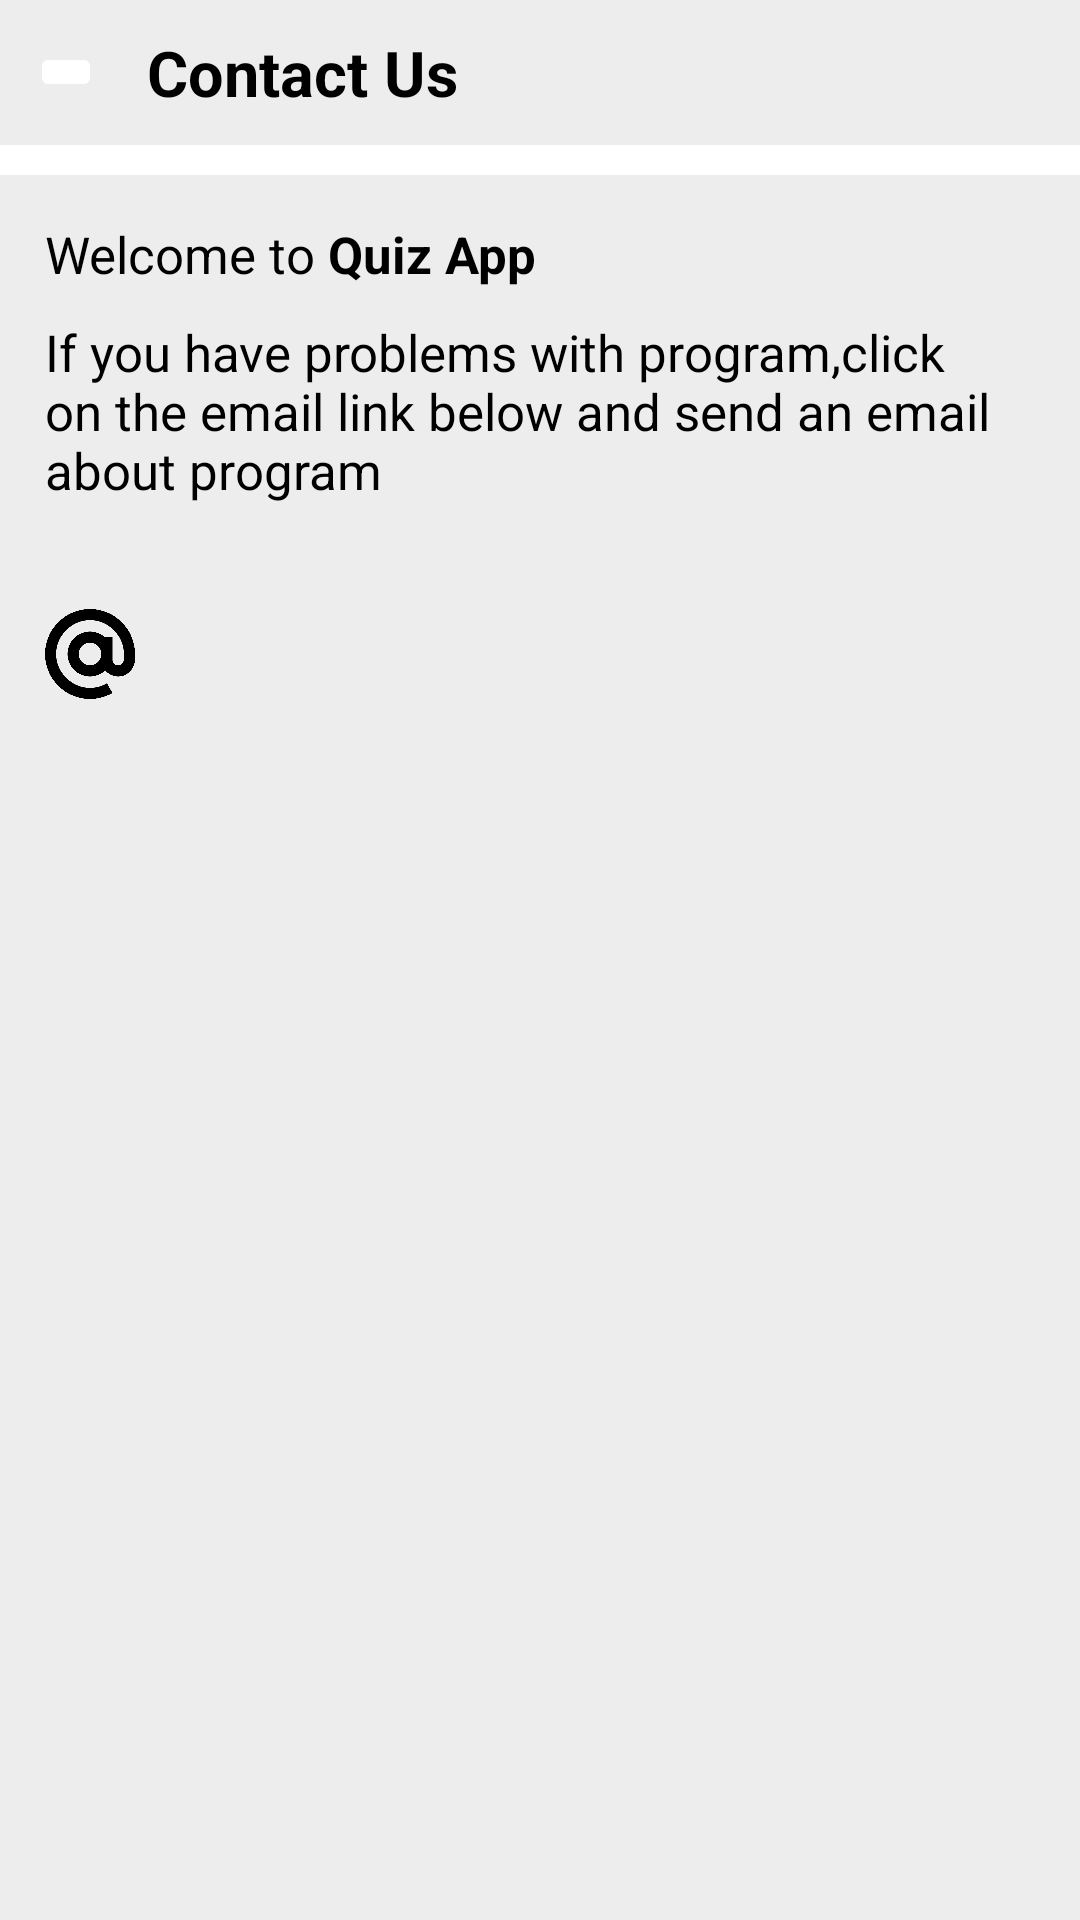

Point at icon controls on the screen. Image size 1080×1920, points as (x=x, y=y).
aticon: (x=90, y=654)
